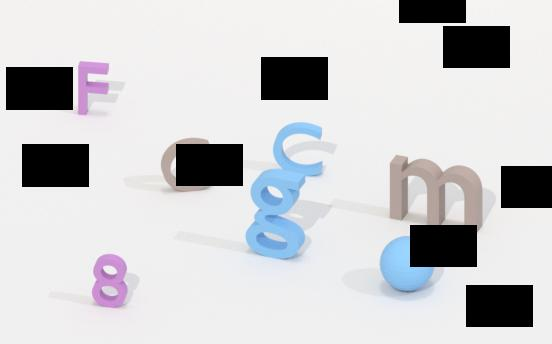8: (88, 252, 134, 311)
F: (73, 58, 116, 118)
c: (270, 120, 334, 179), (157, 136, 219, 193)
cau: (376, 232, 440, 294)
g: (243, 167, 310, 261)
m: (387, 153, 487, 236)
